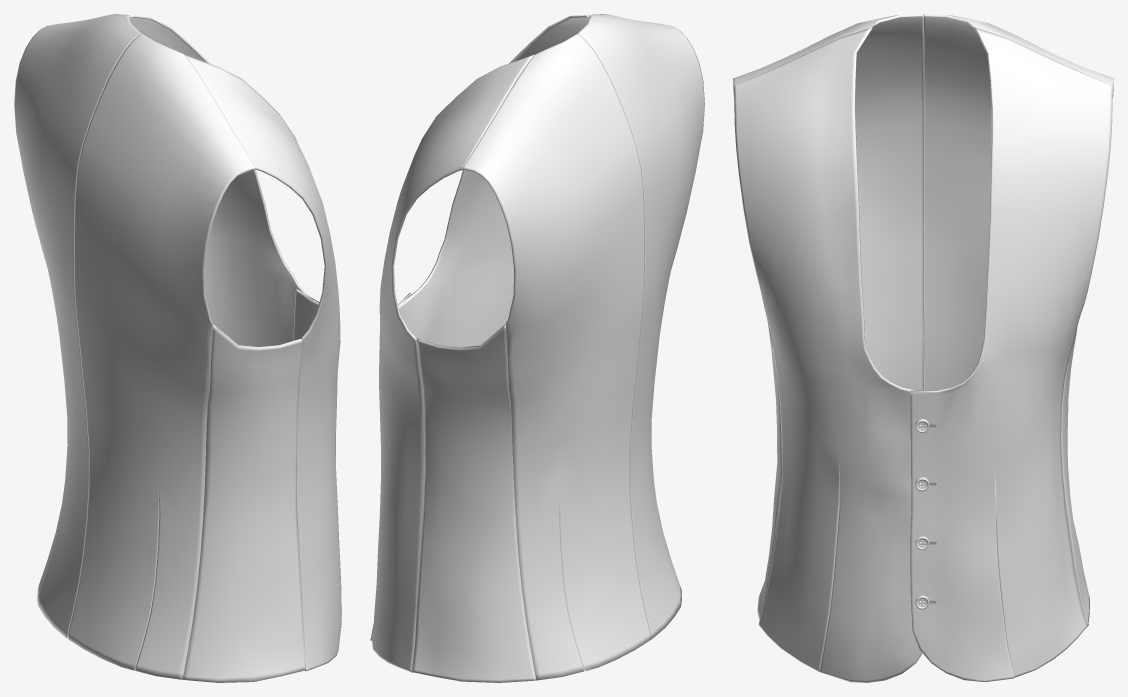
File: single_breasted_4_buttons_horse_shoe_with_round_bottom.glb
3 renders of one model, left to right at view 1: azimuth 30°, elevation 25°; view 2: azimuth 150°, elevation 25°; view 3: azimuth 270°, elevation 25°, orthographic. The views are drawn at different scales.
Visible parts, largest first — view 1: SM_Vest_Back_outside, SM_Vest_front_Sigle_4Button_Round; view 2: SM_Vest_Back_outside, SM_Vest_front_Sigle_4Button_Round; view 3: SM_Vest_front_Sigle_4Button_Round, SM_Vest_Back_outside, SM_Button_4.
Part boxes in pixels (x1,y1,x2,y2): SM_Vest_Back_outside: [14, 14, 306, 682]; SM_Vest_front_Sigle_4Button_Round: [129, 15, 341, 671]; SM_Vest_Back_outside: [411, 14, 704, 682]; SM_Vest_front_Sigle_4Button_Round: [370, 15, 589, 672]; SM_Vest_front_Sigle_4Button_Round: [733, 27, 1113, 682]; SM_Vest_Back_outside: [733, 14, 1113, 625]; SM_Button_4: [915, 419, 936, 609].
Bounding box in the file's own units: 1.55 × 3.64 × 2.12.
5 materials, 1 textured.
